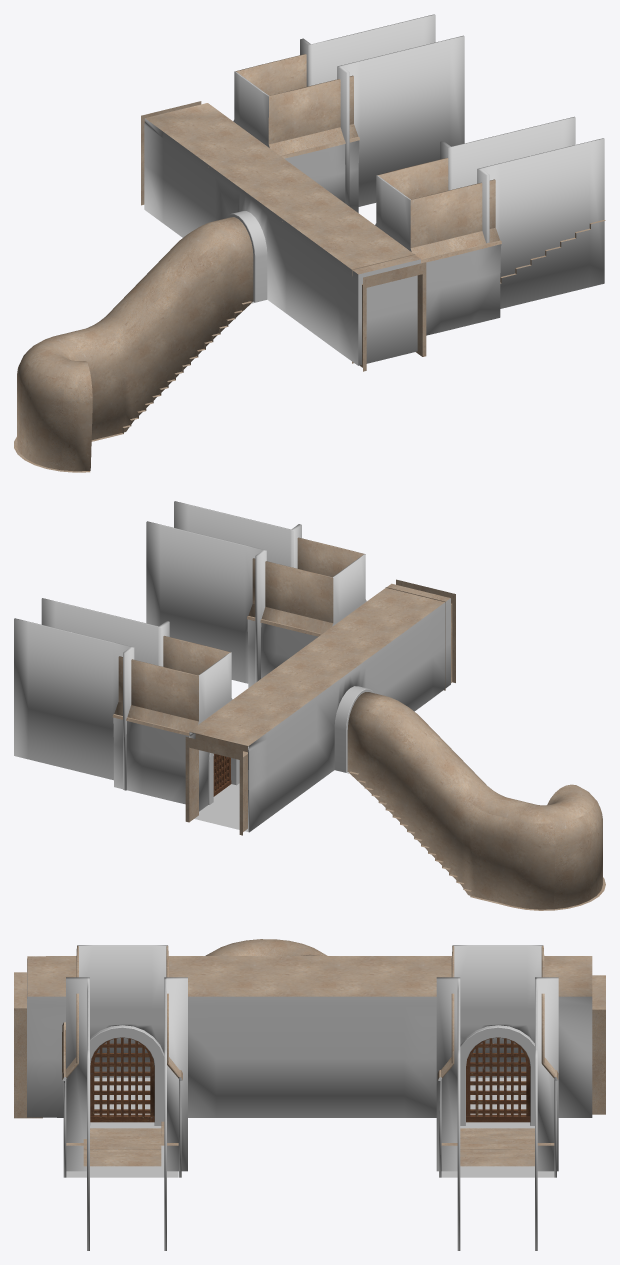
File: East Cordior Venus.fbx
3 renders of one model, top to bottom at view 1: azimuth 30°, elevation 25°; view 2: azimuth 150°, elevation 25°; view 3: azimuth 270°, elevation 25°, orthographic. The views are drawn at different scales.
Visible parts, largest first — view 1: Exterior_Walls, Couloir, Pillars, Doors_Encadrements, Stairway; view 2: Exterior_Walls, Couloir, Pillars, Doors_Encadrements, Sol, Stairway, Doors; view 3: Couloir, Exterior_Walls, Doors, Stairway, Sol, Pillars, Doors_Encadrements.
Part boxes in pixels (x1,y1,x2,y2): Exterior_Walls: (233, 14, 604, 335); Couloir: (17, 103, 420, 471); Pillars: (141, 101, 426, 371); Doors_Encadrements: (226, 211, 267, 302); Stairway: (14, 220, 605, 472); Exterior_Walls: (14, 501, 366, 804); Couloir: (189, 583, 602, 909); Pillars: (185, 579, 455, 835); Doors_Encadrements: (208, 686, 373, 804); Sol: (194, 772, 348, 831); Stairway: (348, 771, 605, 910); Doors: (213, 754, 231, 796); Couloir: (27, 939, 592, 1117); Exterior_Walls: (62, 945, 558, 1250); Doors: (90, 1037, 530, 1122); Stairway: (66, 1121, 554, 1166); Sol: (66, 1077, 554, 1177); Pillars: (14, 972, 605, 1118); Doors_Encadrements: (90, 1025, 534, 1125).
Bounding box in the file's own units: 2765 × 1254 × 2082.
